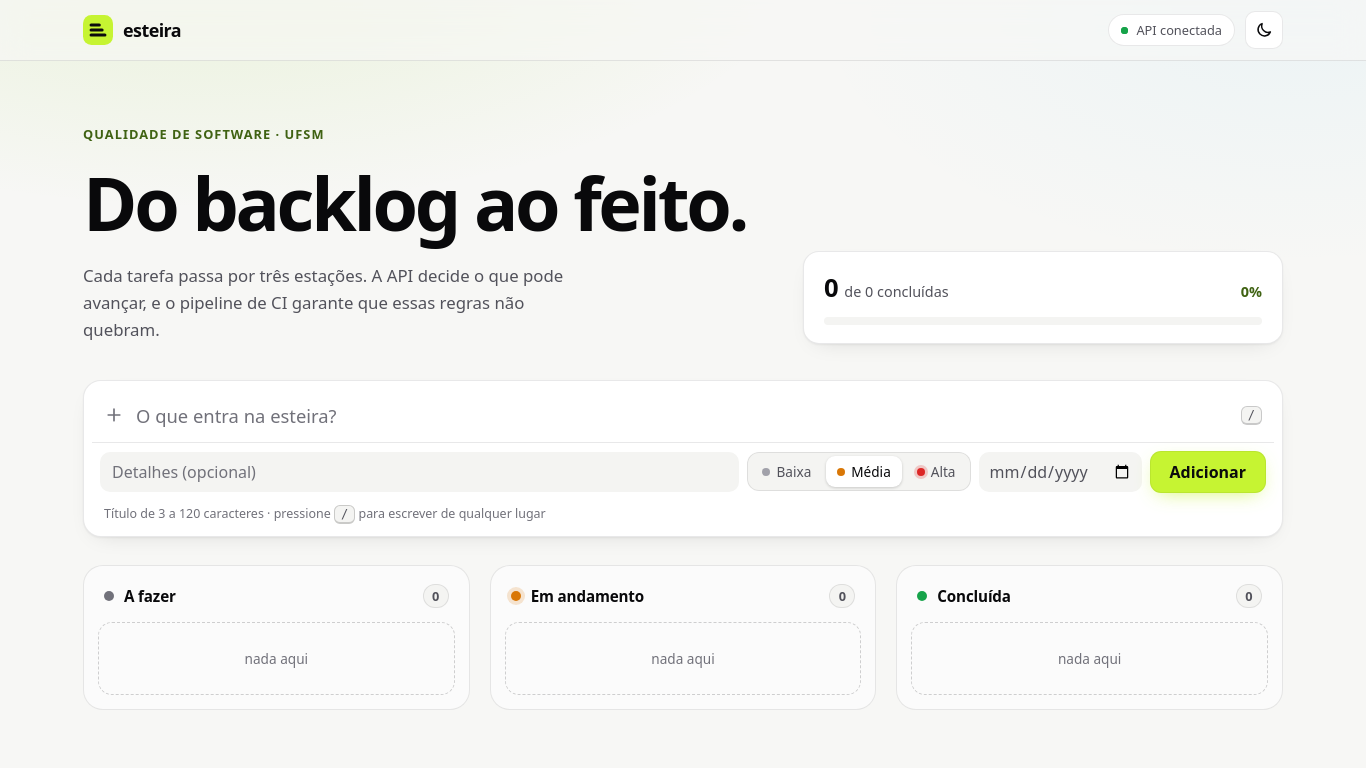
Test case: App › cria uma tarefa e envia o corpo esperado pela API
The image size is (1366, 768).
In the field named "Título": (682, 415) [136,397,1229,434], type "Revisar pipeline"
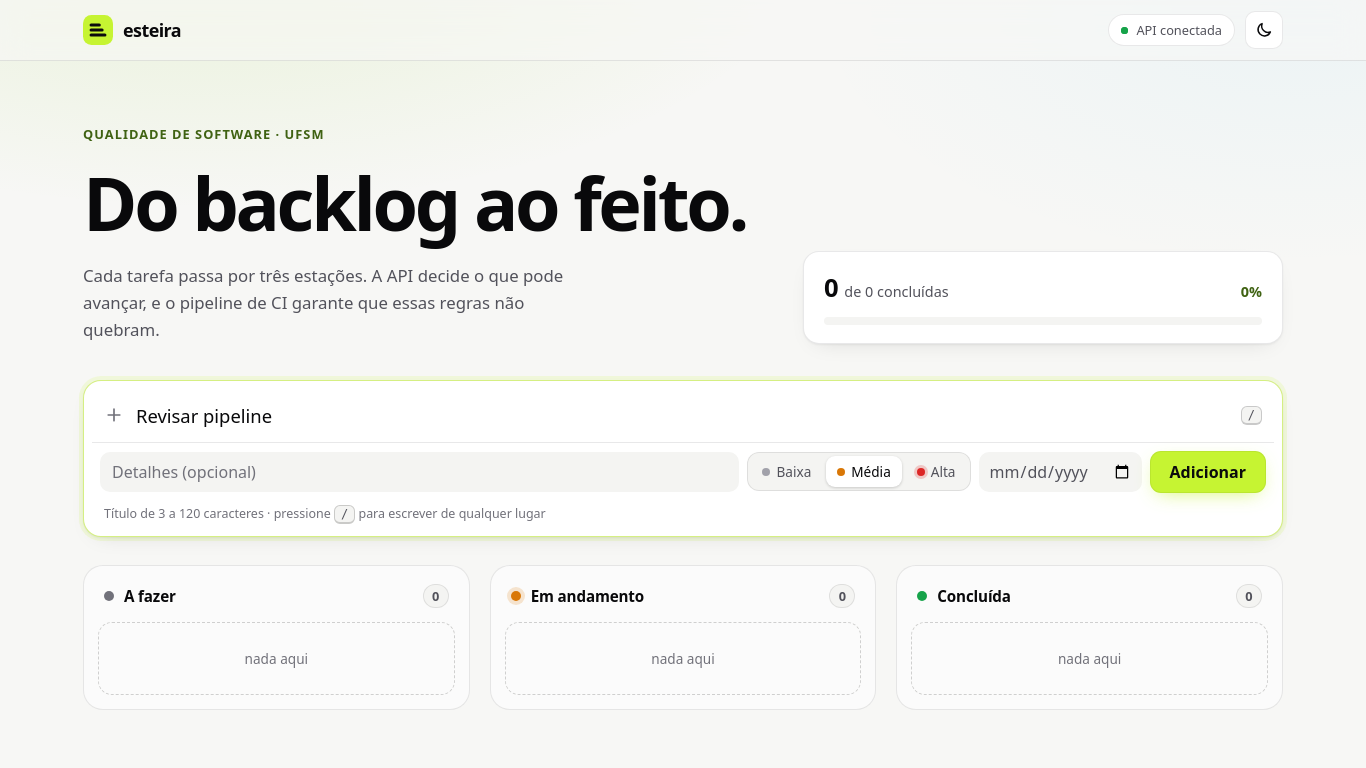
In the field named "Descrição": (420, 472) [100,452,740,492], type "Conferir os gates"
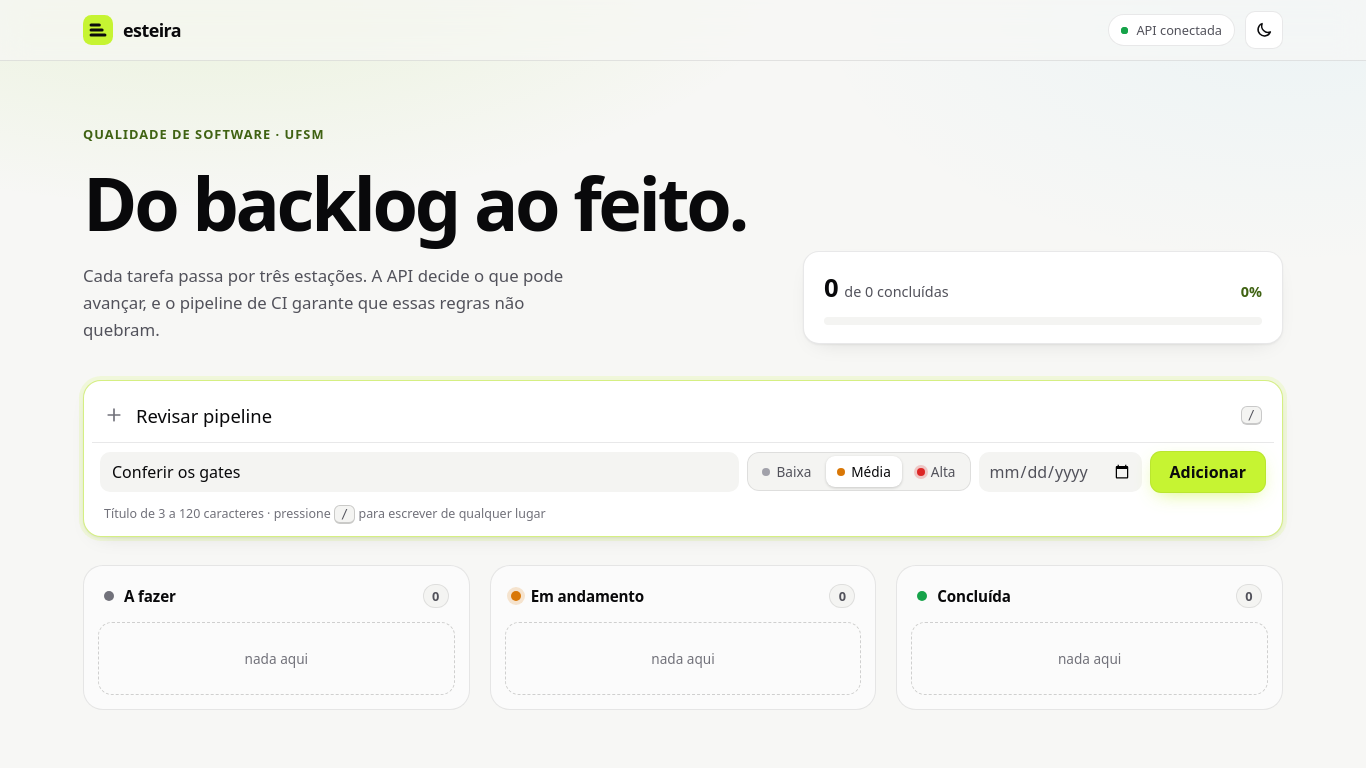
Click the radio button labelled "Alta": (936, 472) [917,462,956,481]
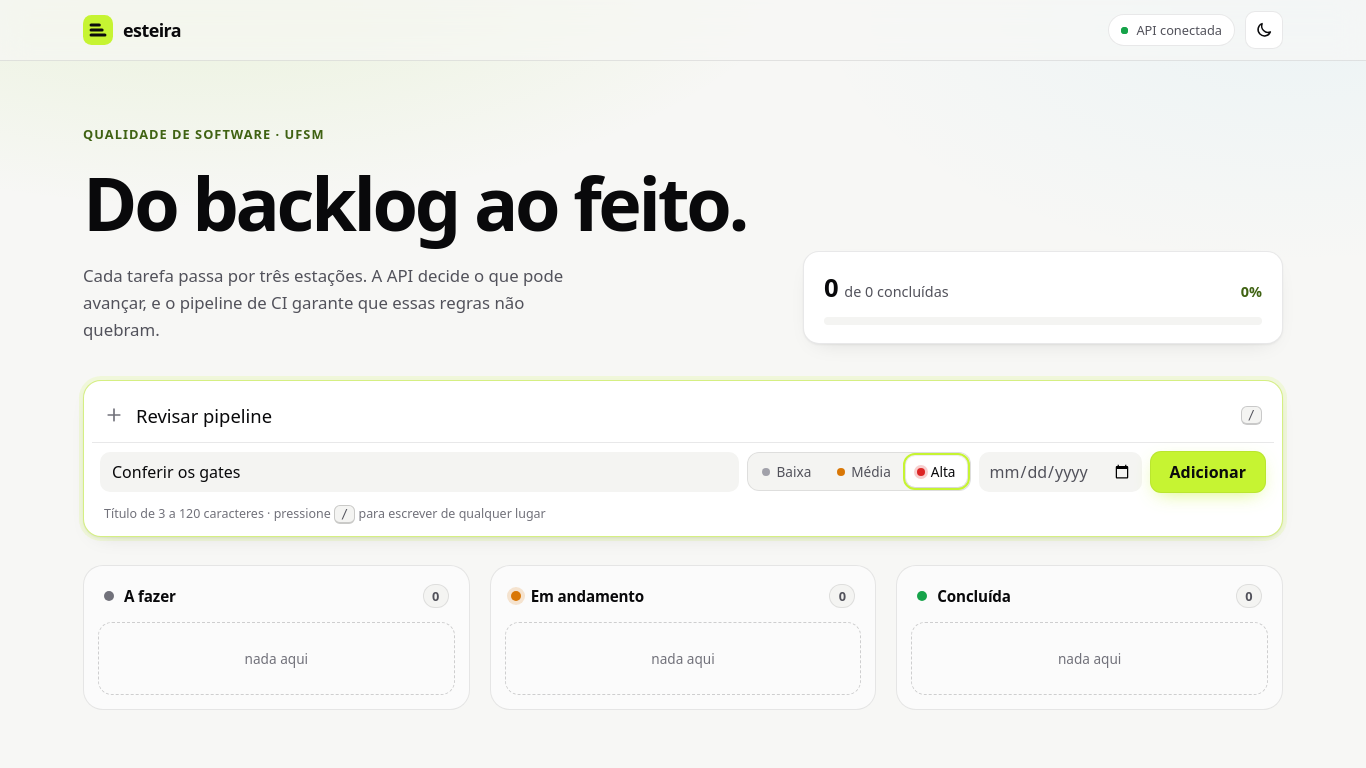
Click the button "Adicionar": (1208, 472) [1150,451,1266,493]
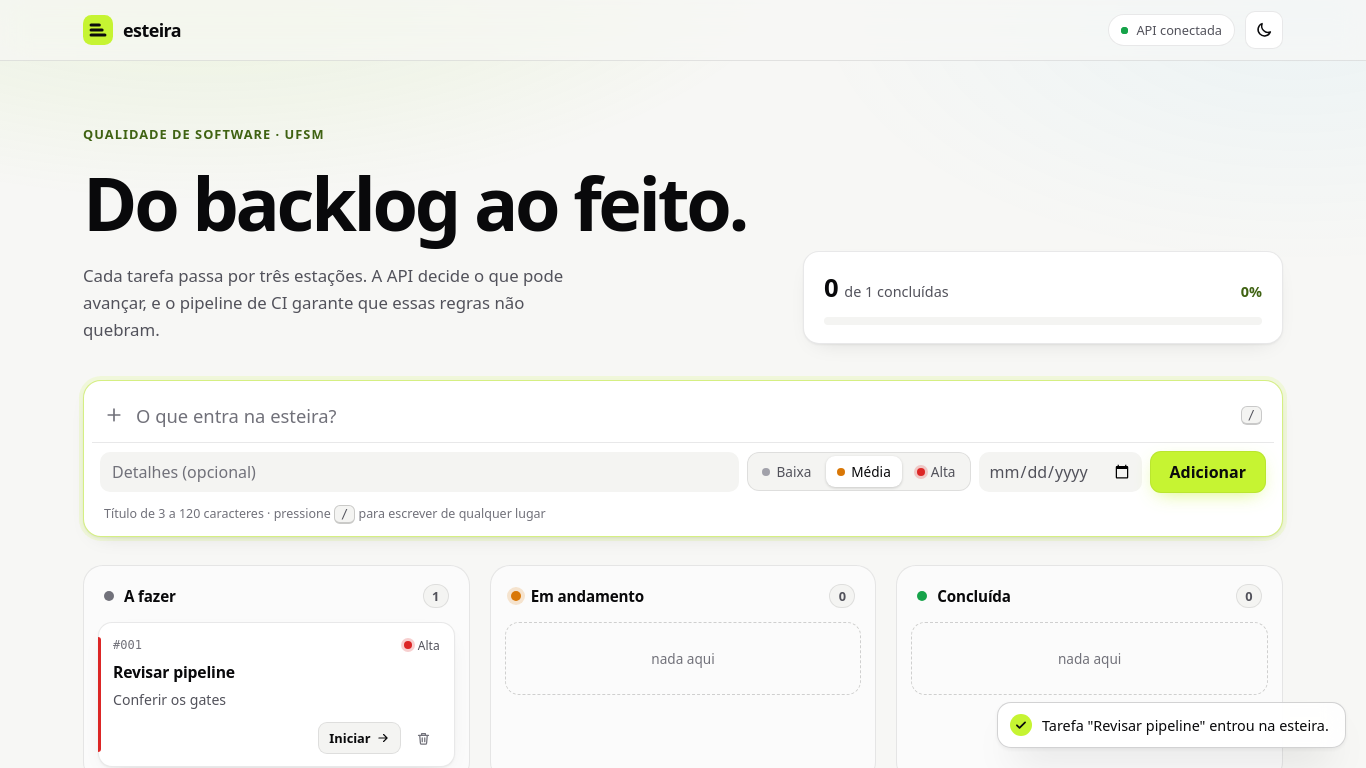
Expected: the heading "Revisar pipeline" is shown, [113,661,235,683]
Expected: the field named "Título" is empty, [136,397,1229,434]
Expected: the radio button labelled "Média" is checked, [826,456,902,487]
